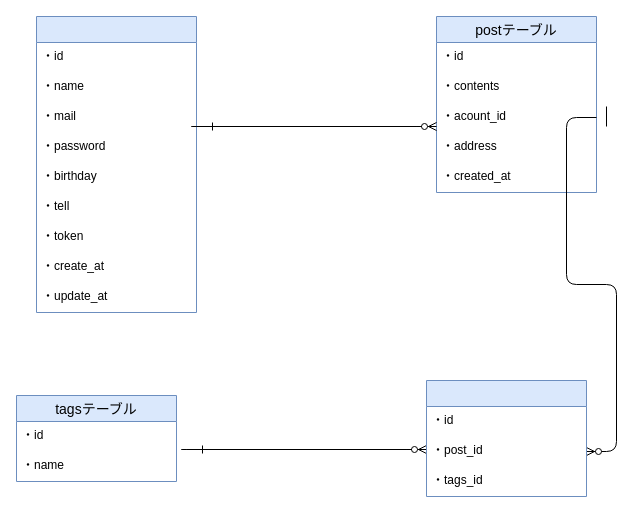
Image size: 633x513. Some labels were removed from this diagram. Each missing label, with the box of its shape:
acountテーブル: (36, 16, 196, 312)
post_tagsテーブル: (426, 380, 586, 496)
